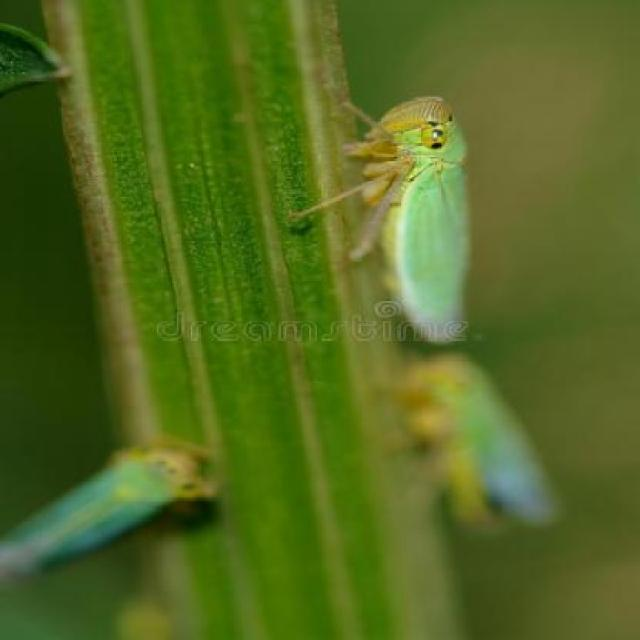green-leafhopper: (322, 85, 488, 337), (409, 347, 565, 535), (0, 444, 197, 573)
